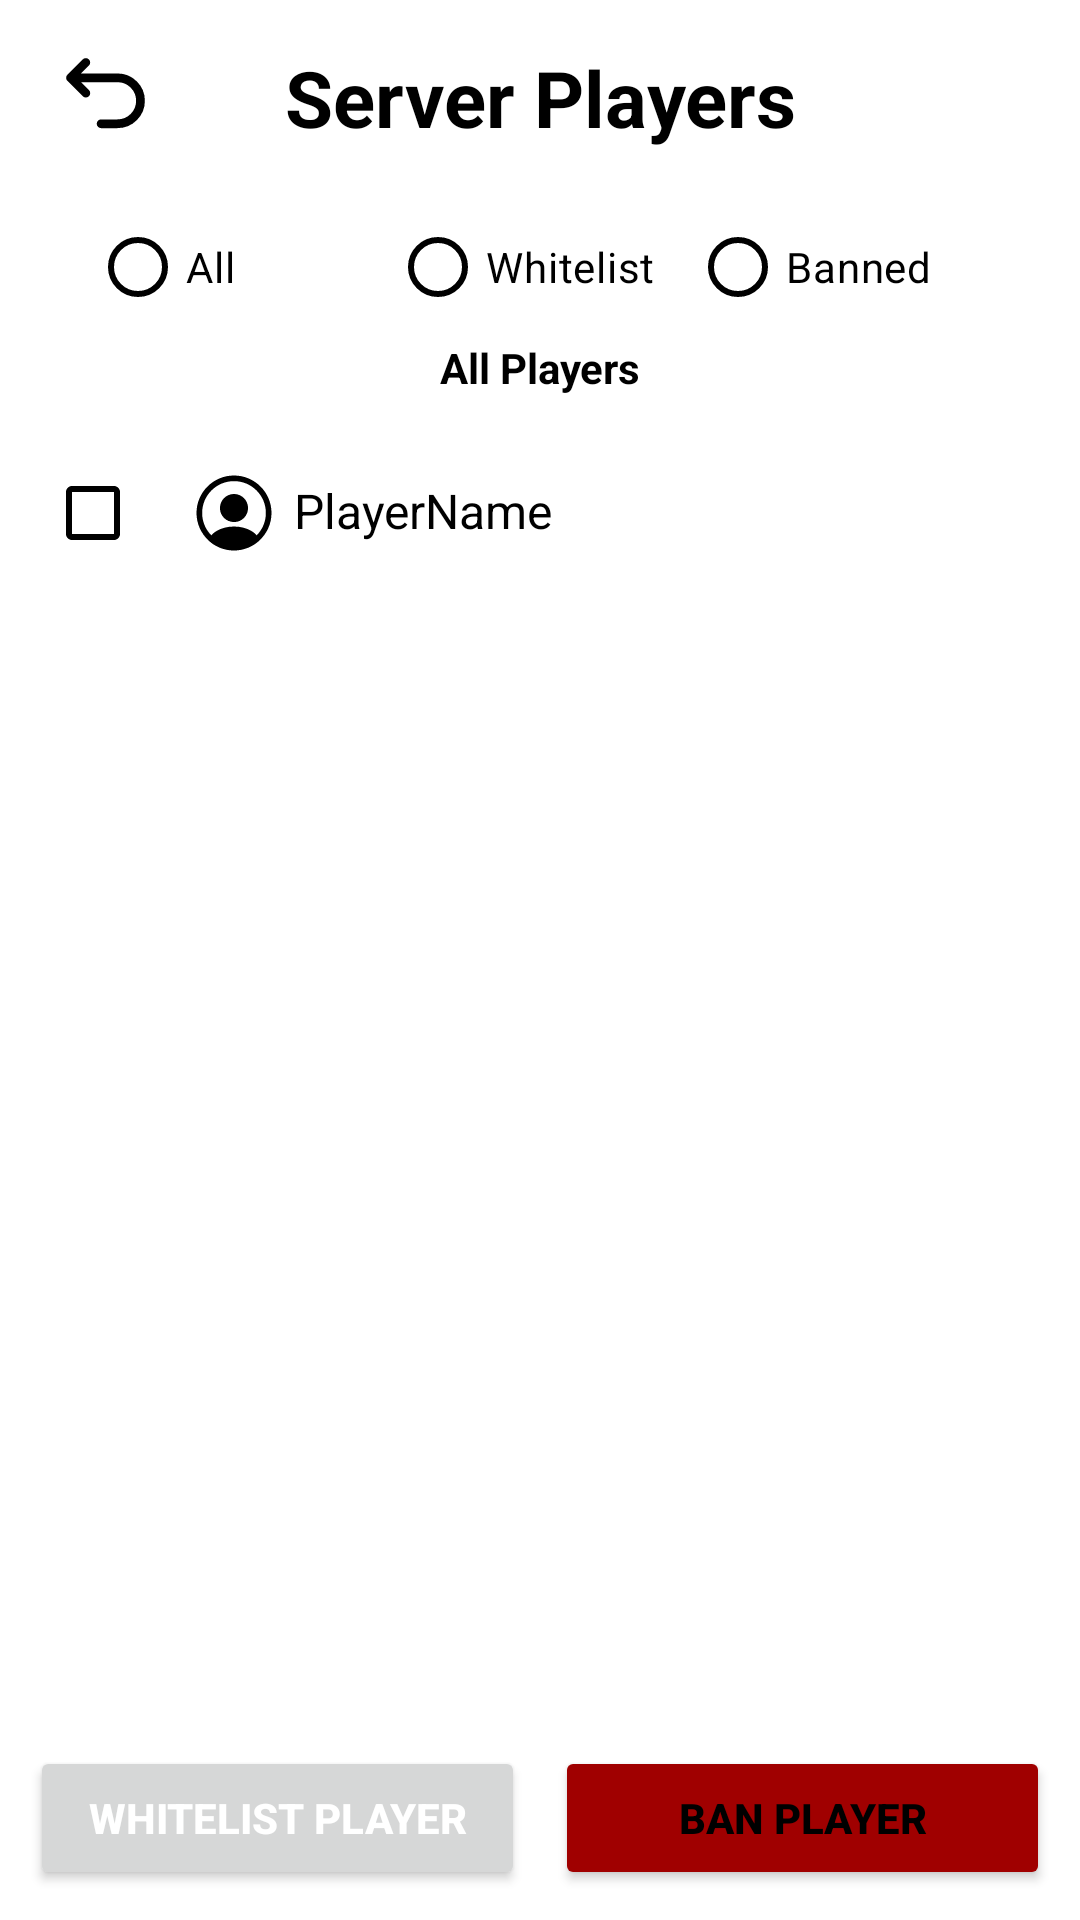

Where icons sit on this 1080 × 1920 app screen, as (x1, y1, x2, y2):
back: (66, 58, 145, 129)
profile: (196, 475, 272, 551)
